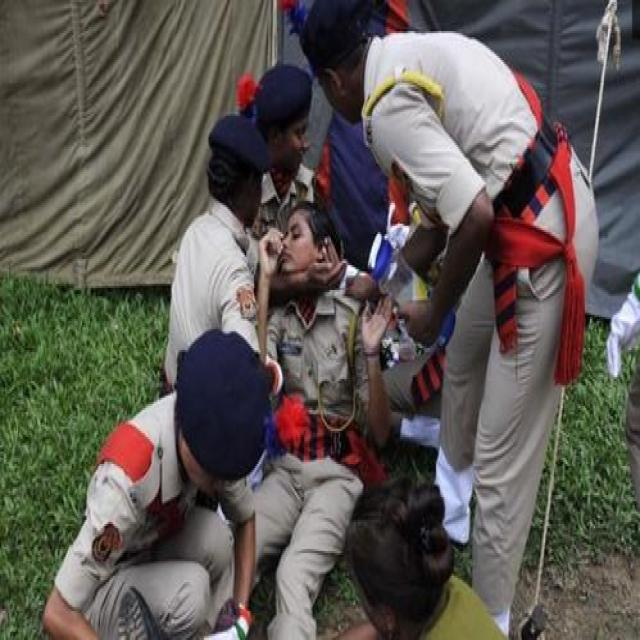fall: (252, 211, 356, 611)
